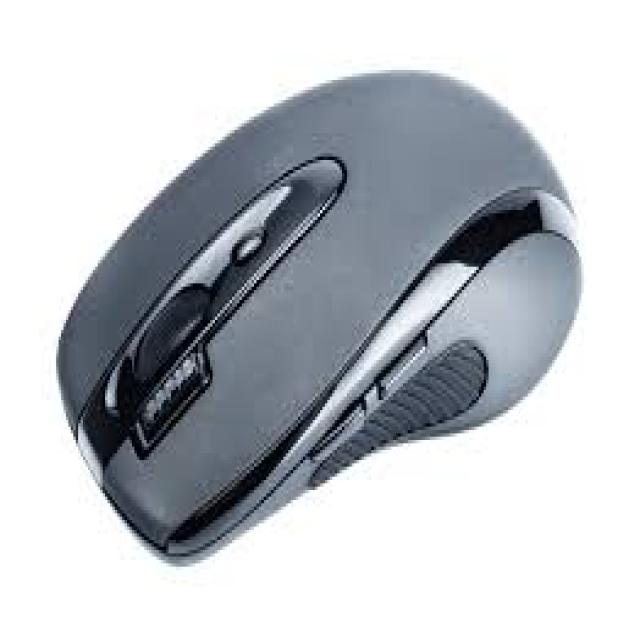mouse: (53, 22, 606, 546)
